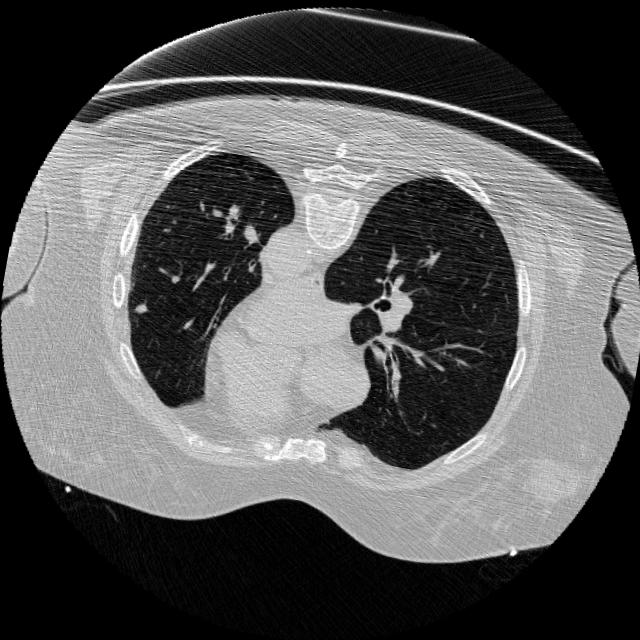nodule: (122, 291, 158, 326)
